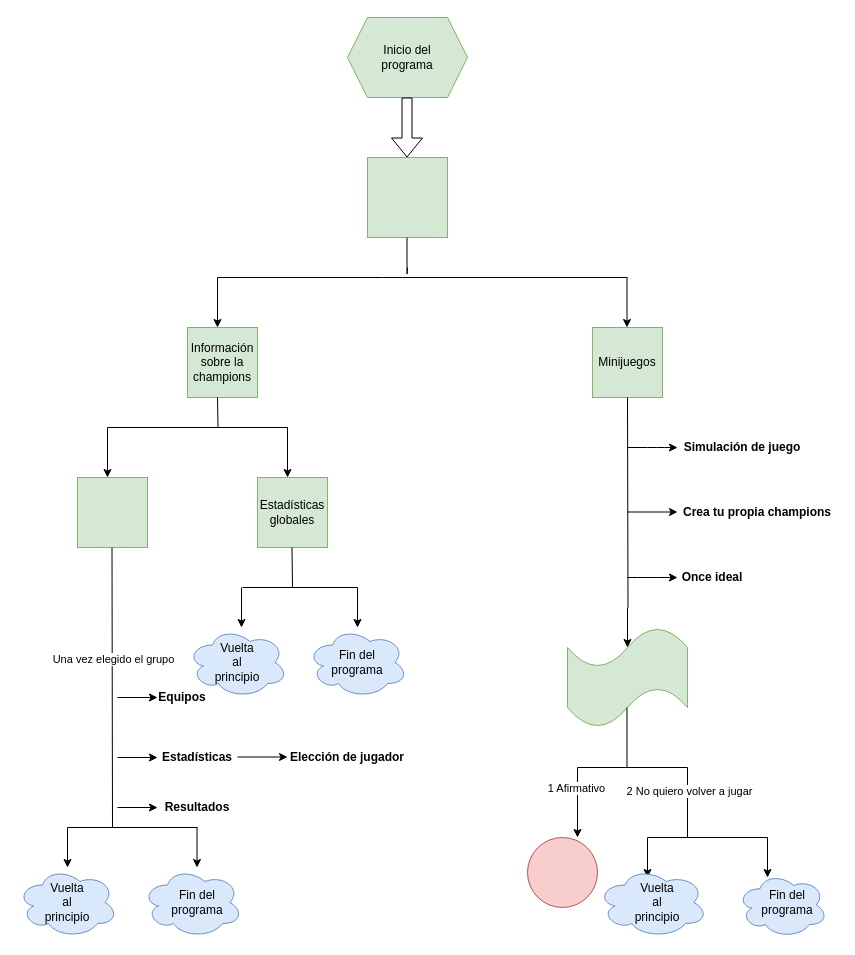
Image size: 855x955. Some labels were removed from this diagram. The shapes that lost their labels are listed below. From the top down, each one's centre as x and y in pixels, then its label:
At (407,197): "Menú".
At (112,512): "Elección de grupo".
At (627,677): "Quiere volver a jugar".
At (562,872): "Volver a elegir juego".
